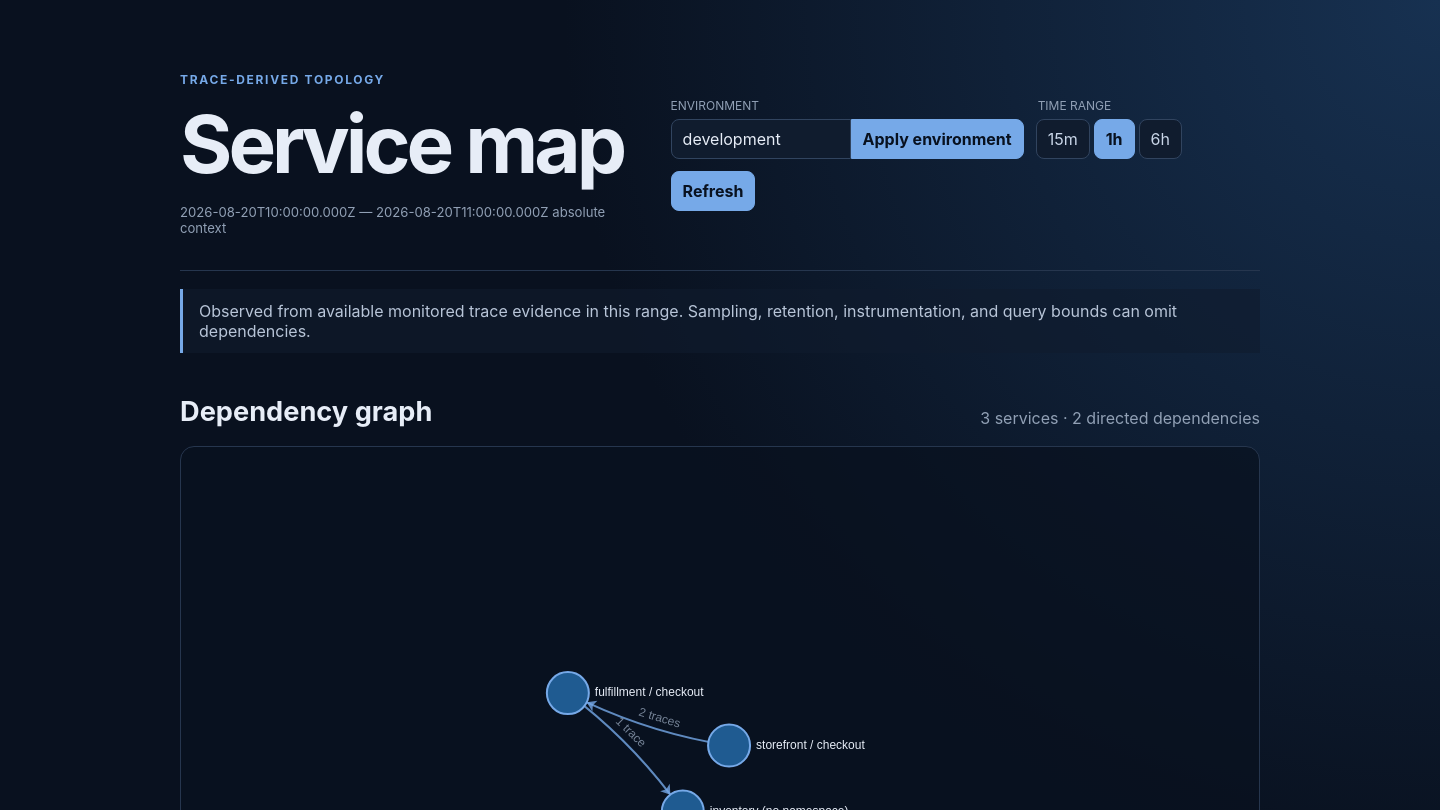
Test: Service Map › never presents the previous environment while the next query is pending
This screenshot has width=1440, height=810.
Replace the text in the field labelled "Environment" with "staging" at x=761, y=138, box [671,118,851,158]
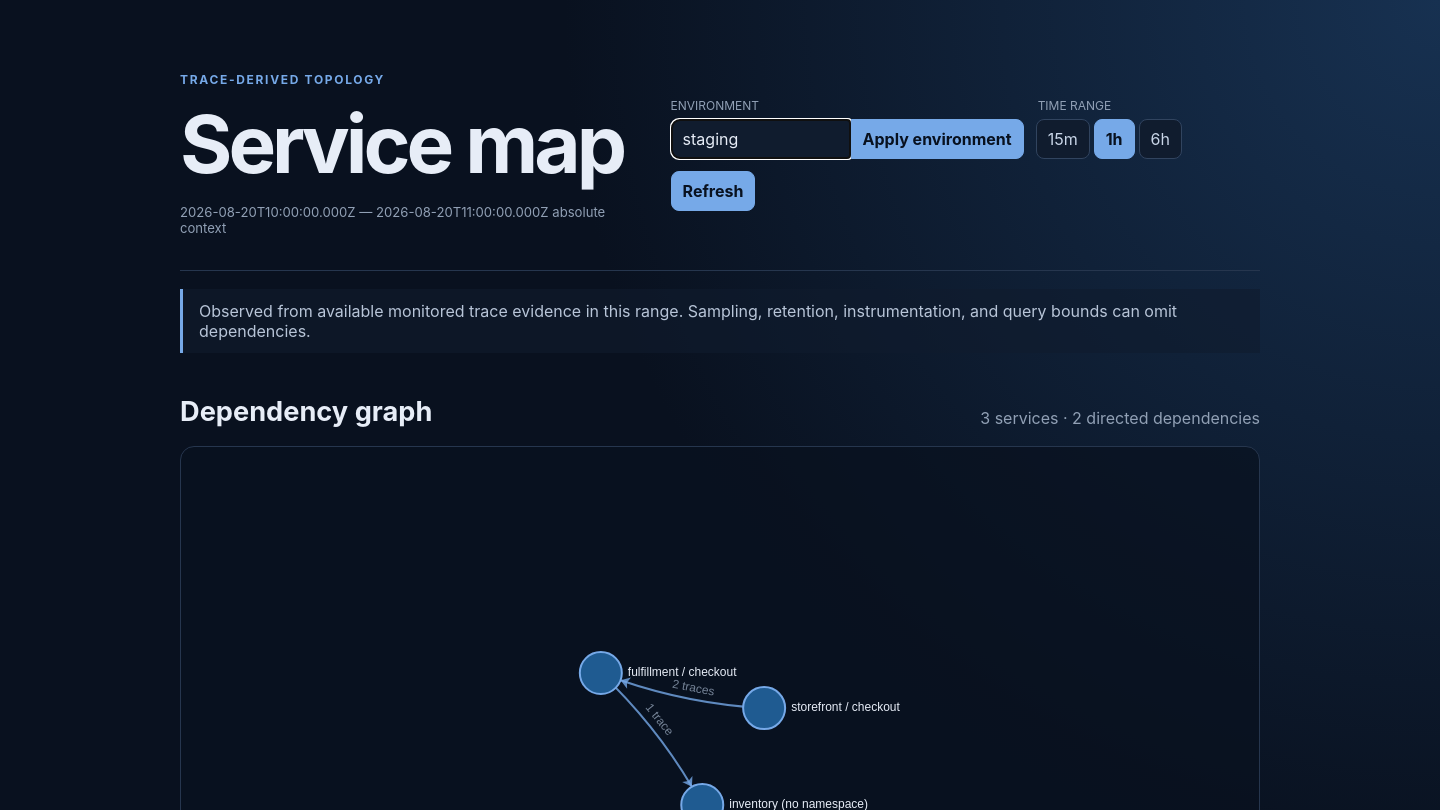
Click the button "Apply environment" at x=937, y=138, box [851,118,1024,158]
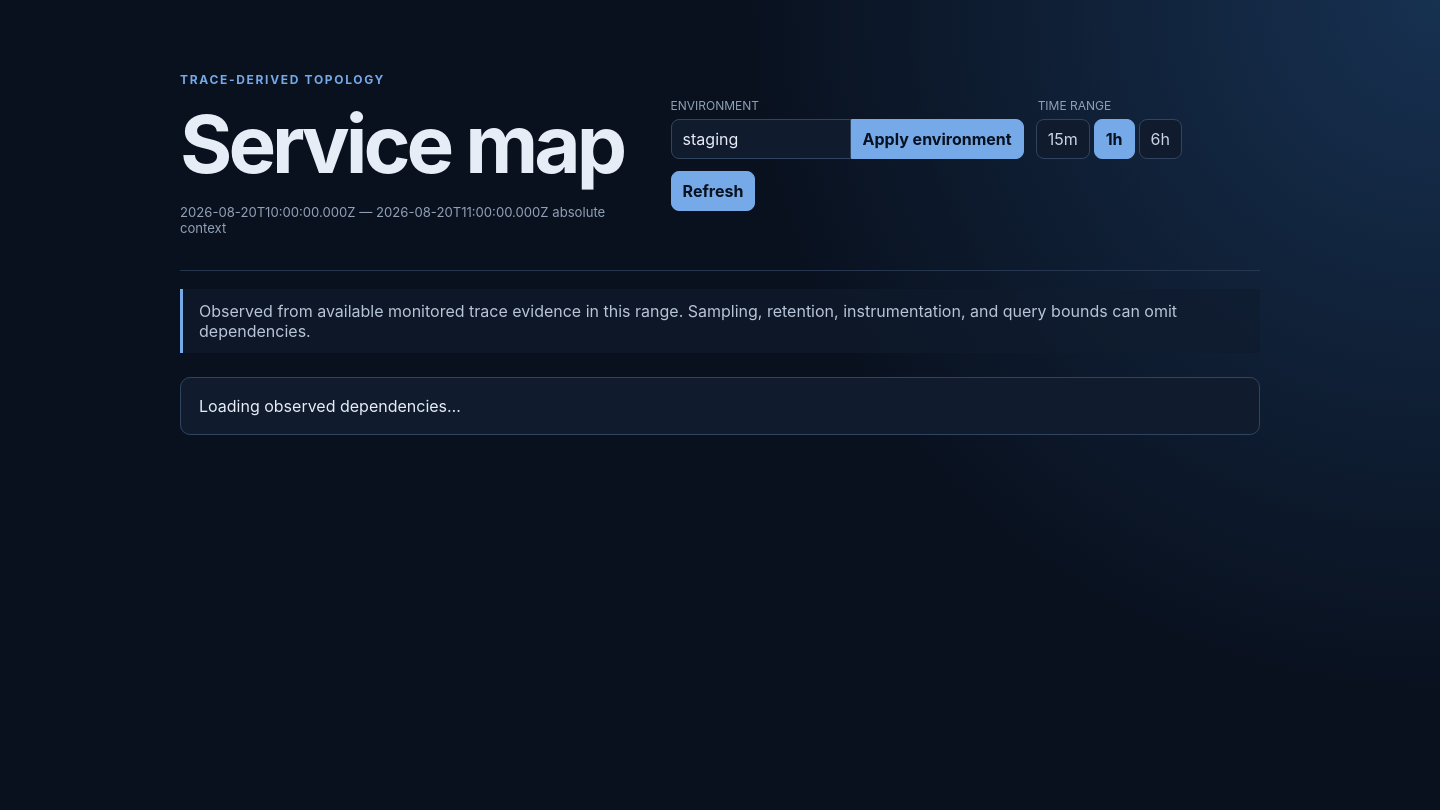
Check: the field labelled "Environment" holds "staging", box [671,118,851,158]
Check: the text "Loading observed dependencies…" is shown, box [180,377,1260,435]
